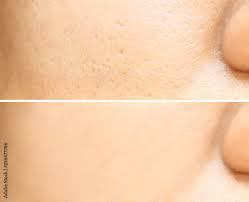Englarged-Pores: (69, 29, 235, 106)
